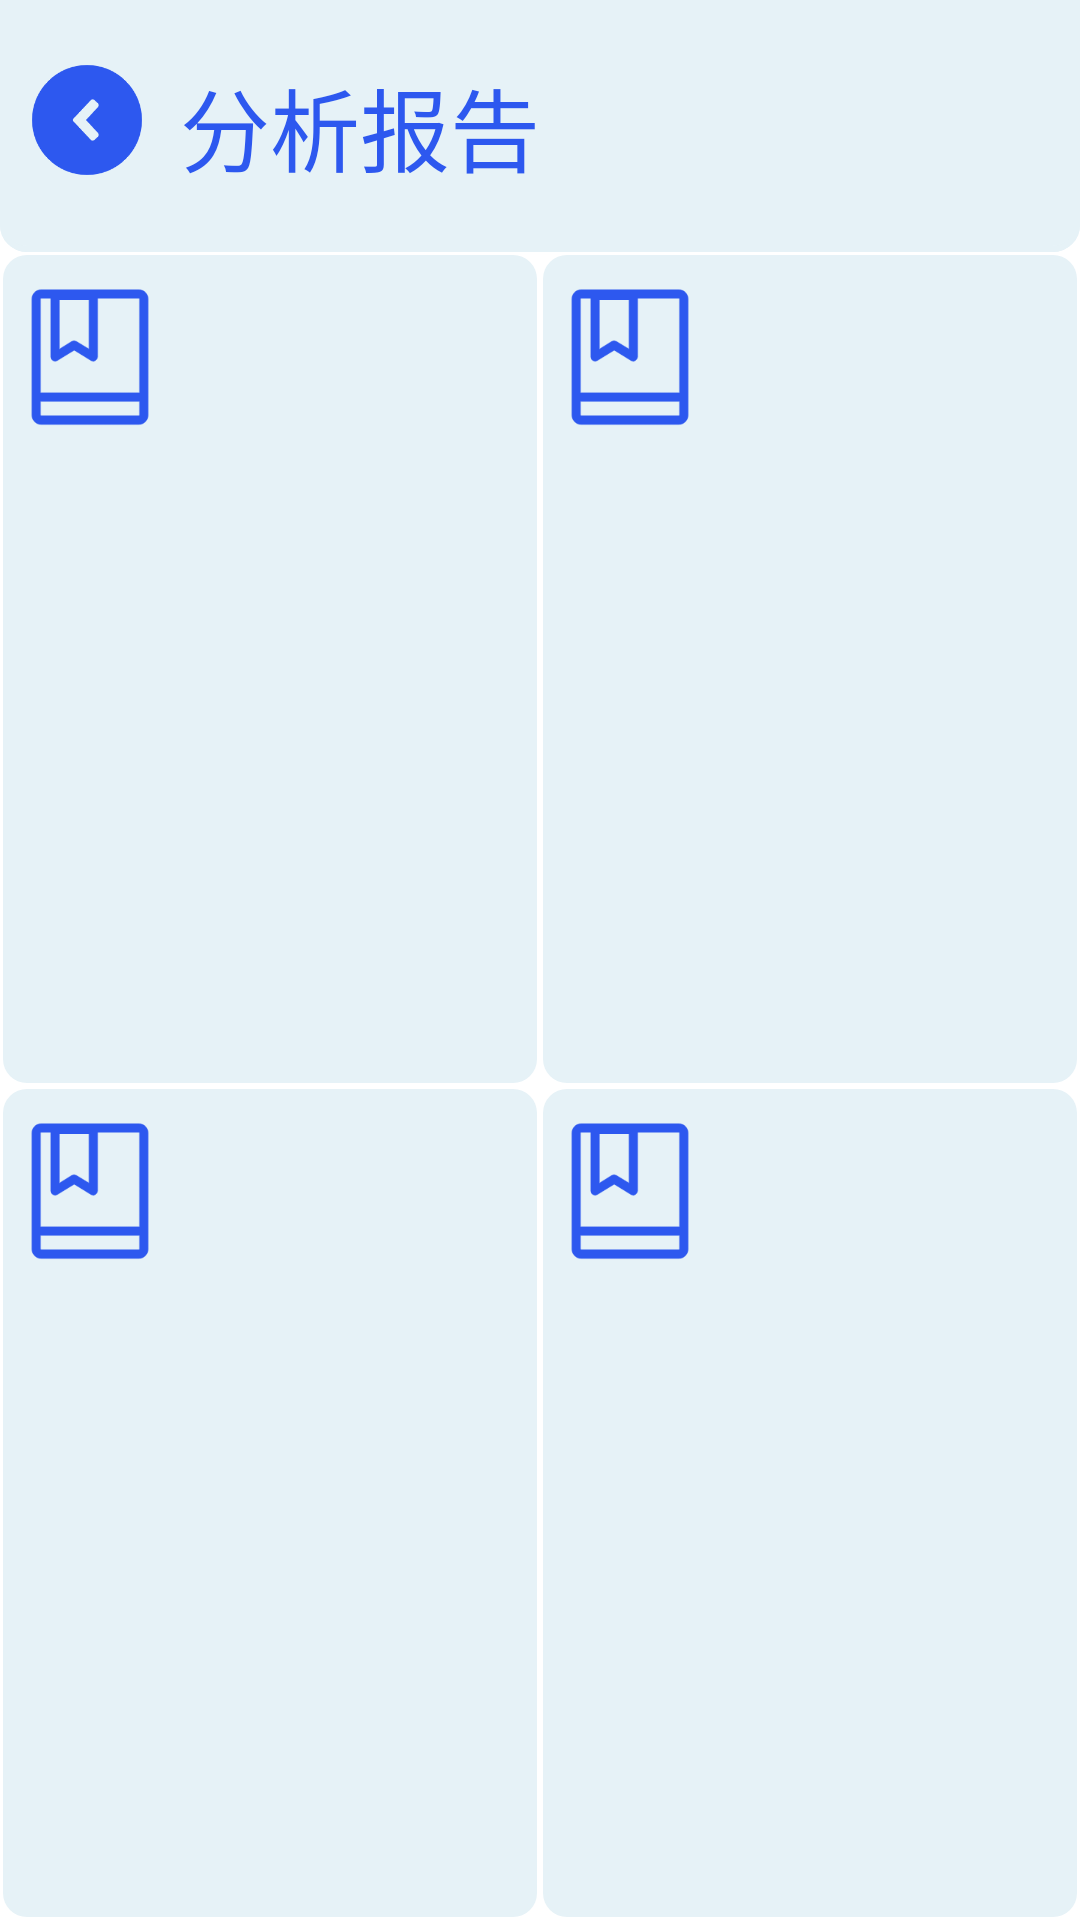

Icons on this 1080px×1920px Android screen, each with the point to tap as (x,y):
back: (87,120)
subject: (90,357), (630,357), (90,1191), (630,1191)
